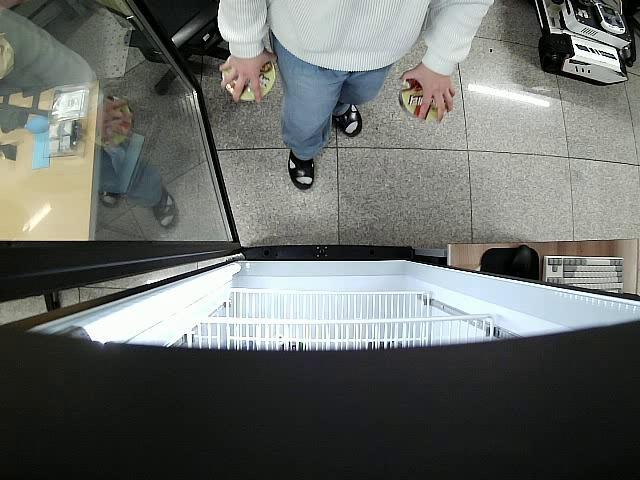03_chapagetti_L: (396, 76, 450, 124), (223, 57, 274, 102)
